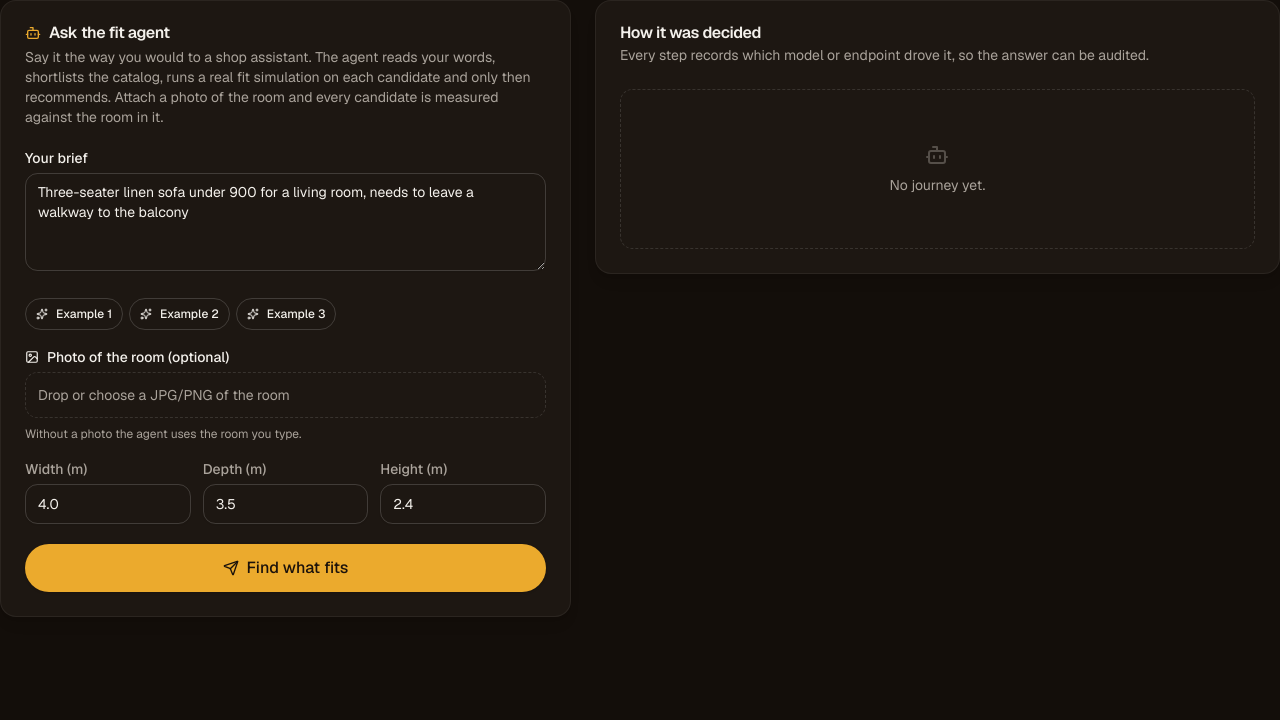
Test: FitAgent › renders every step, its driver and its duration
The image size is (1280, 720).
What coordinates should you click on to do the following:
click the button "Find what fits"
I would click on:
 (285, 568)
Its box is left=25, top=544, right=546, bottom=592.
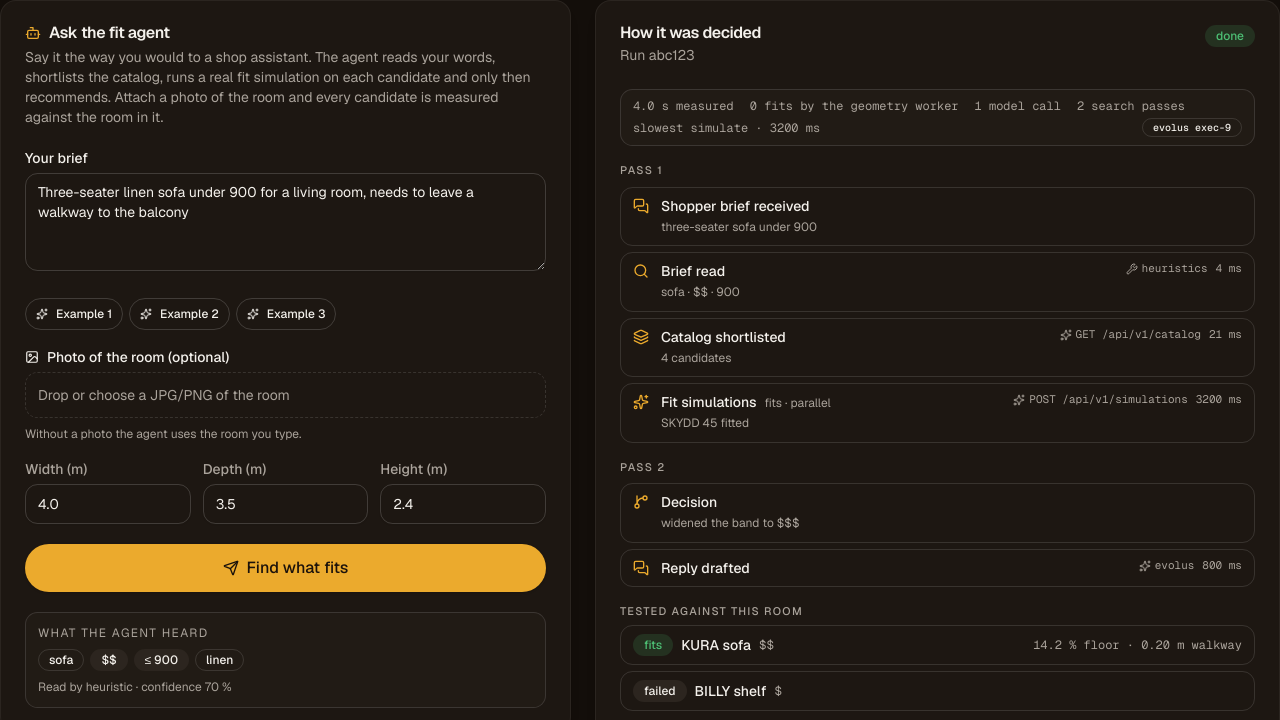
Now the text "Catalog shortlisted" is shown, box left=661, top=328, right=786, bottom=346
Now the text "4 candidates" is shown, box left=661, top=350, right=731, bottom=366
Now the text "GET /api/v1/catalog" is shown, box left=1060, top=327, right=1201, bottom=342
